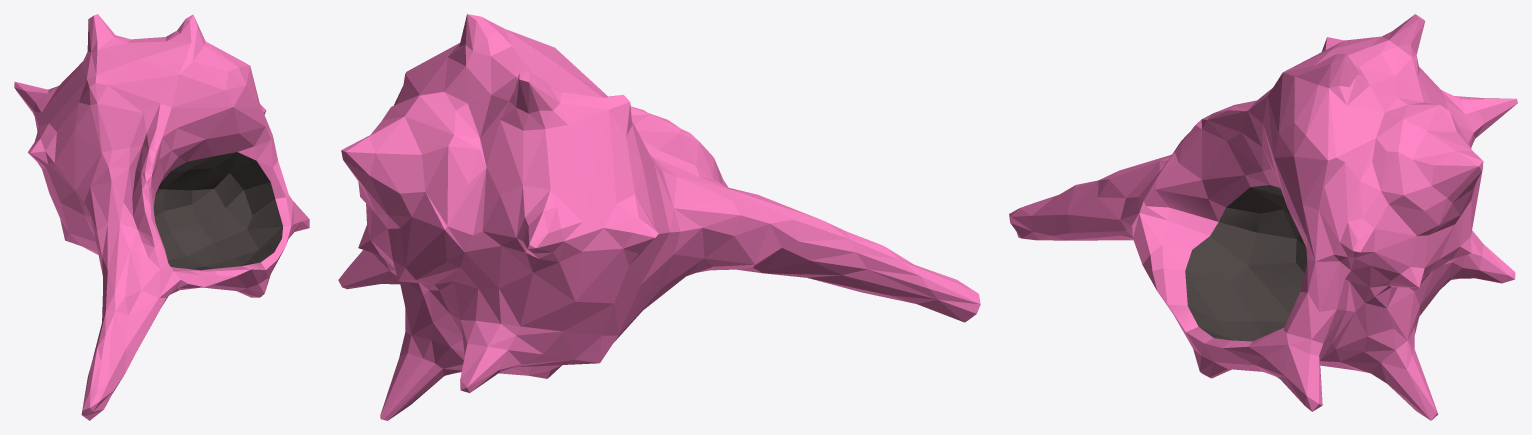
The model's file is Hailuo2.fbx.
3 views of the same model, side by side, from view 1: azimuth 30°, elevation 25°; view 2: azimuth 150°, elevation 25°; view 3: azimuth 270°, elevation 25° (orthographic). The views are drawn at different scales.
Visible parts, largest first — view 1: samor_2025_02; view 2: samor_2025_02; view 3: samor_2025_02.
Boxes of the visible parts, left/top/right/bottom form: samor_2025_02: left=14, top=14, right=309, bottom=420; samor_2025_02: left=338, top=14, right=980, bottom=420; samor_2025_02: left=1009, top=14, right=1517, bottom=420.
Size of the model in its own units: 271 by 206 by 272.
